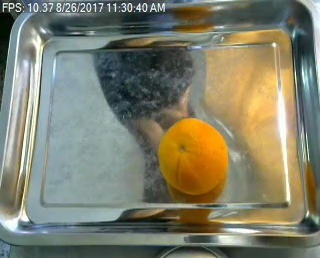Orange: (155, 116, 226, 192)
